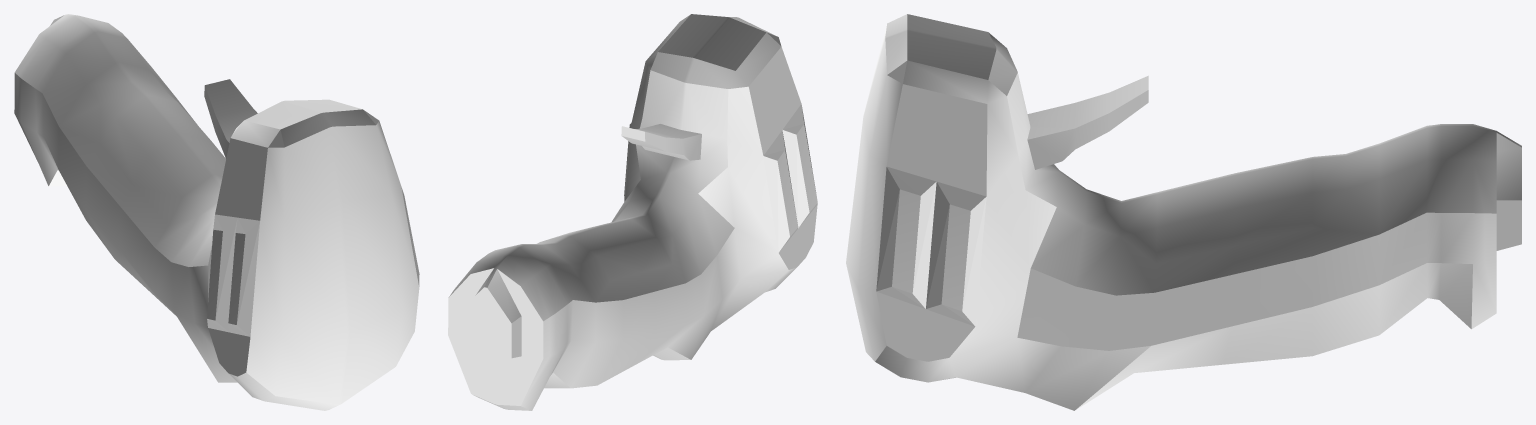
The model's file is icon.obj.
3 renders of one model, left to right at view 1: azimuth 30°, elevation 25°; view 2: azimuth 150°, elevation 25°; view 3: azimuth 270°, elevation 25°, orthographic. The views are drawn at different scales.
Bounding box in the file's own units: 1.72 × 2.9 × 4.78.
Materials: 1 (1 with a texture image).
